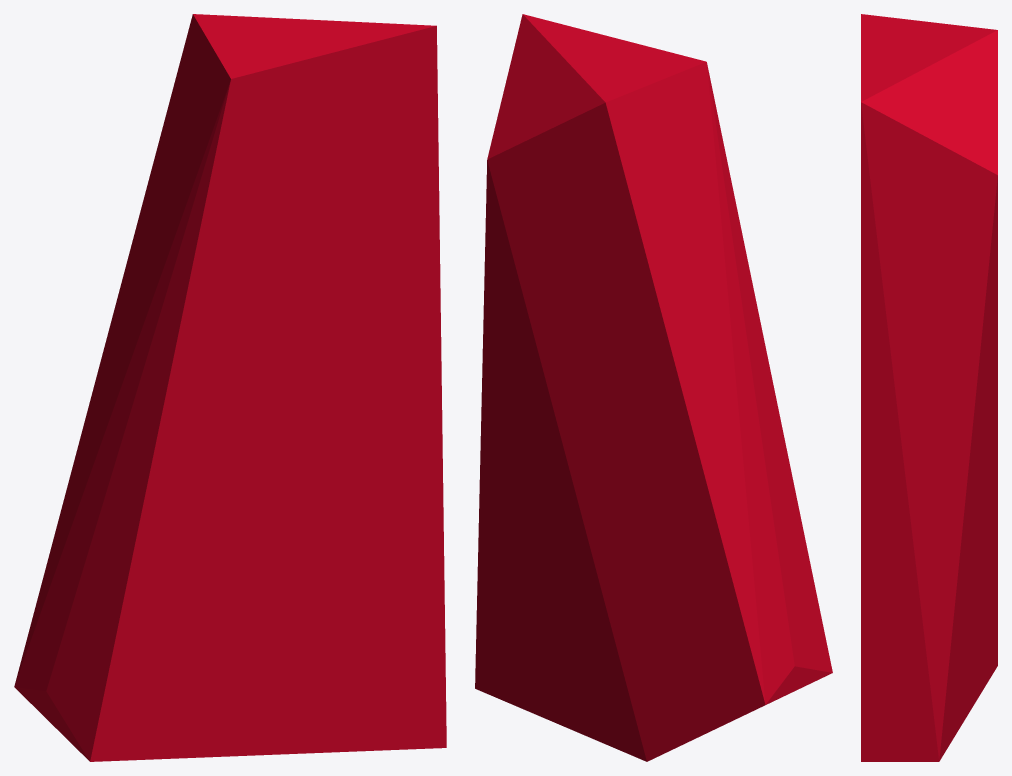
File: garden_table_convex_piece_000.obj
The picture shows the model from 3 angles, left to right: view 1: azimuth 30°, elevation 25°; view 2: azimuth 150°, elevation 25°; view 3: azimuth 270°, elevation 25°; orthographic projection. The views are drawn at different scales.
Bounding box in the file's own units: 0.1066 × 0.2075 × 0.0391.
